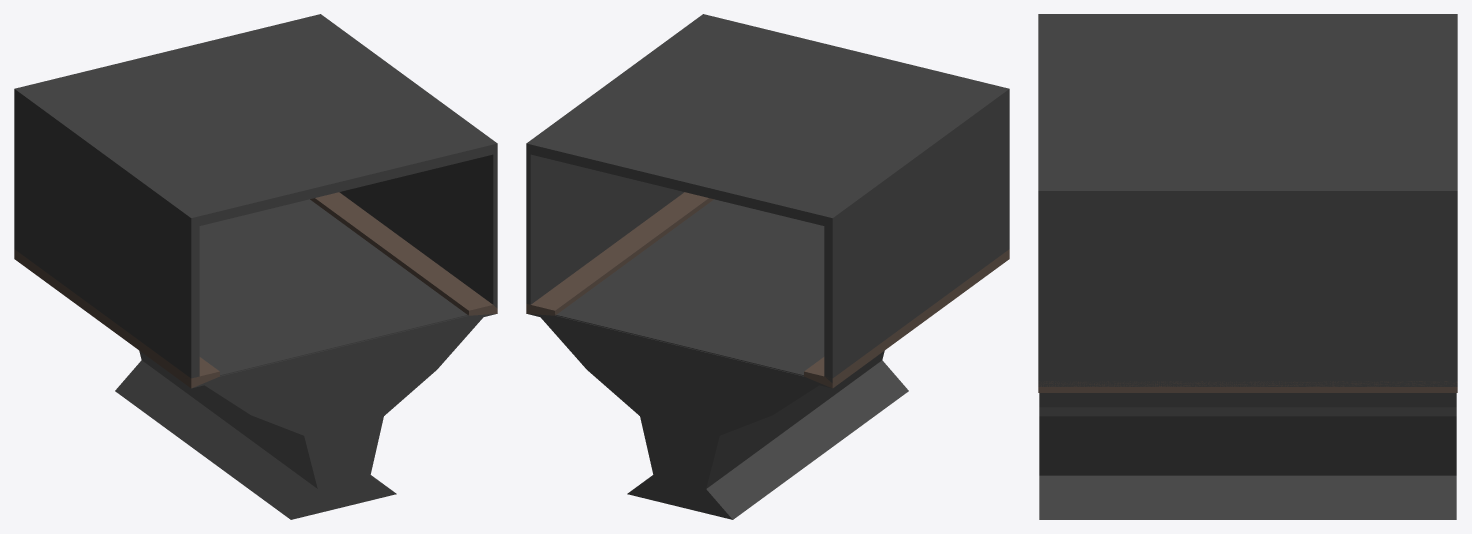
The model's file is raising_tower_top_bottom.glb.
3 views of the same model, side by side, from view 1: azimuth 30°, elevation 25°; view 2: azimuth 150°, elevation 25°; view 3: azimuth 270°, elevation 25° (orthographic). The views are drawn at different scales.
Visible parts, largest first — view 1: Maxis-3d2-mesh-67; view 2: Maxis-3d2-mesh-67; view 3: Maxis-3d2-mesh-67.
Boxes of the visible parts, <box> form: Maxis-3d2-mesh-67: <box>14,14,497,519</box>; Maxis-3d2-mesh-67: <box>526,14,1009,519</box>; Maxis-3d2-mesh-67: <box>1038,14,1457,519</box>.
Bounding box in the file's own units: 16 × 16.29 × 16.
